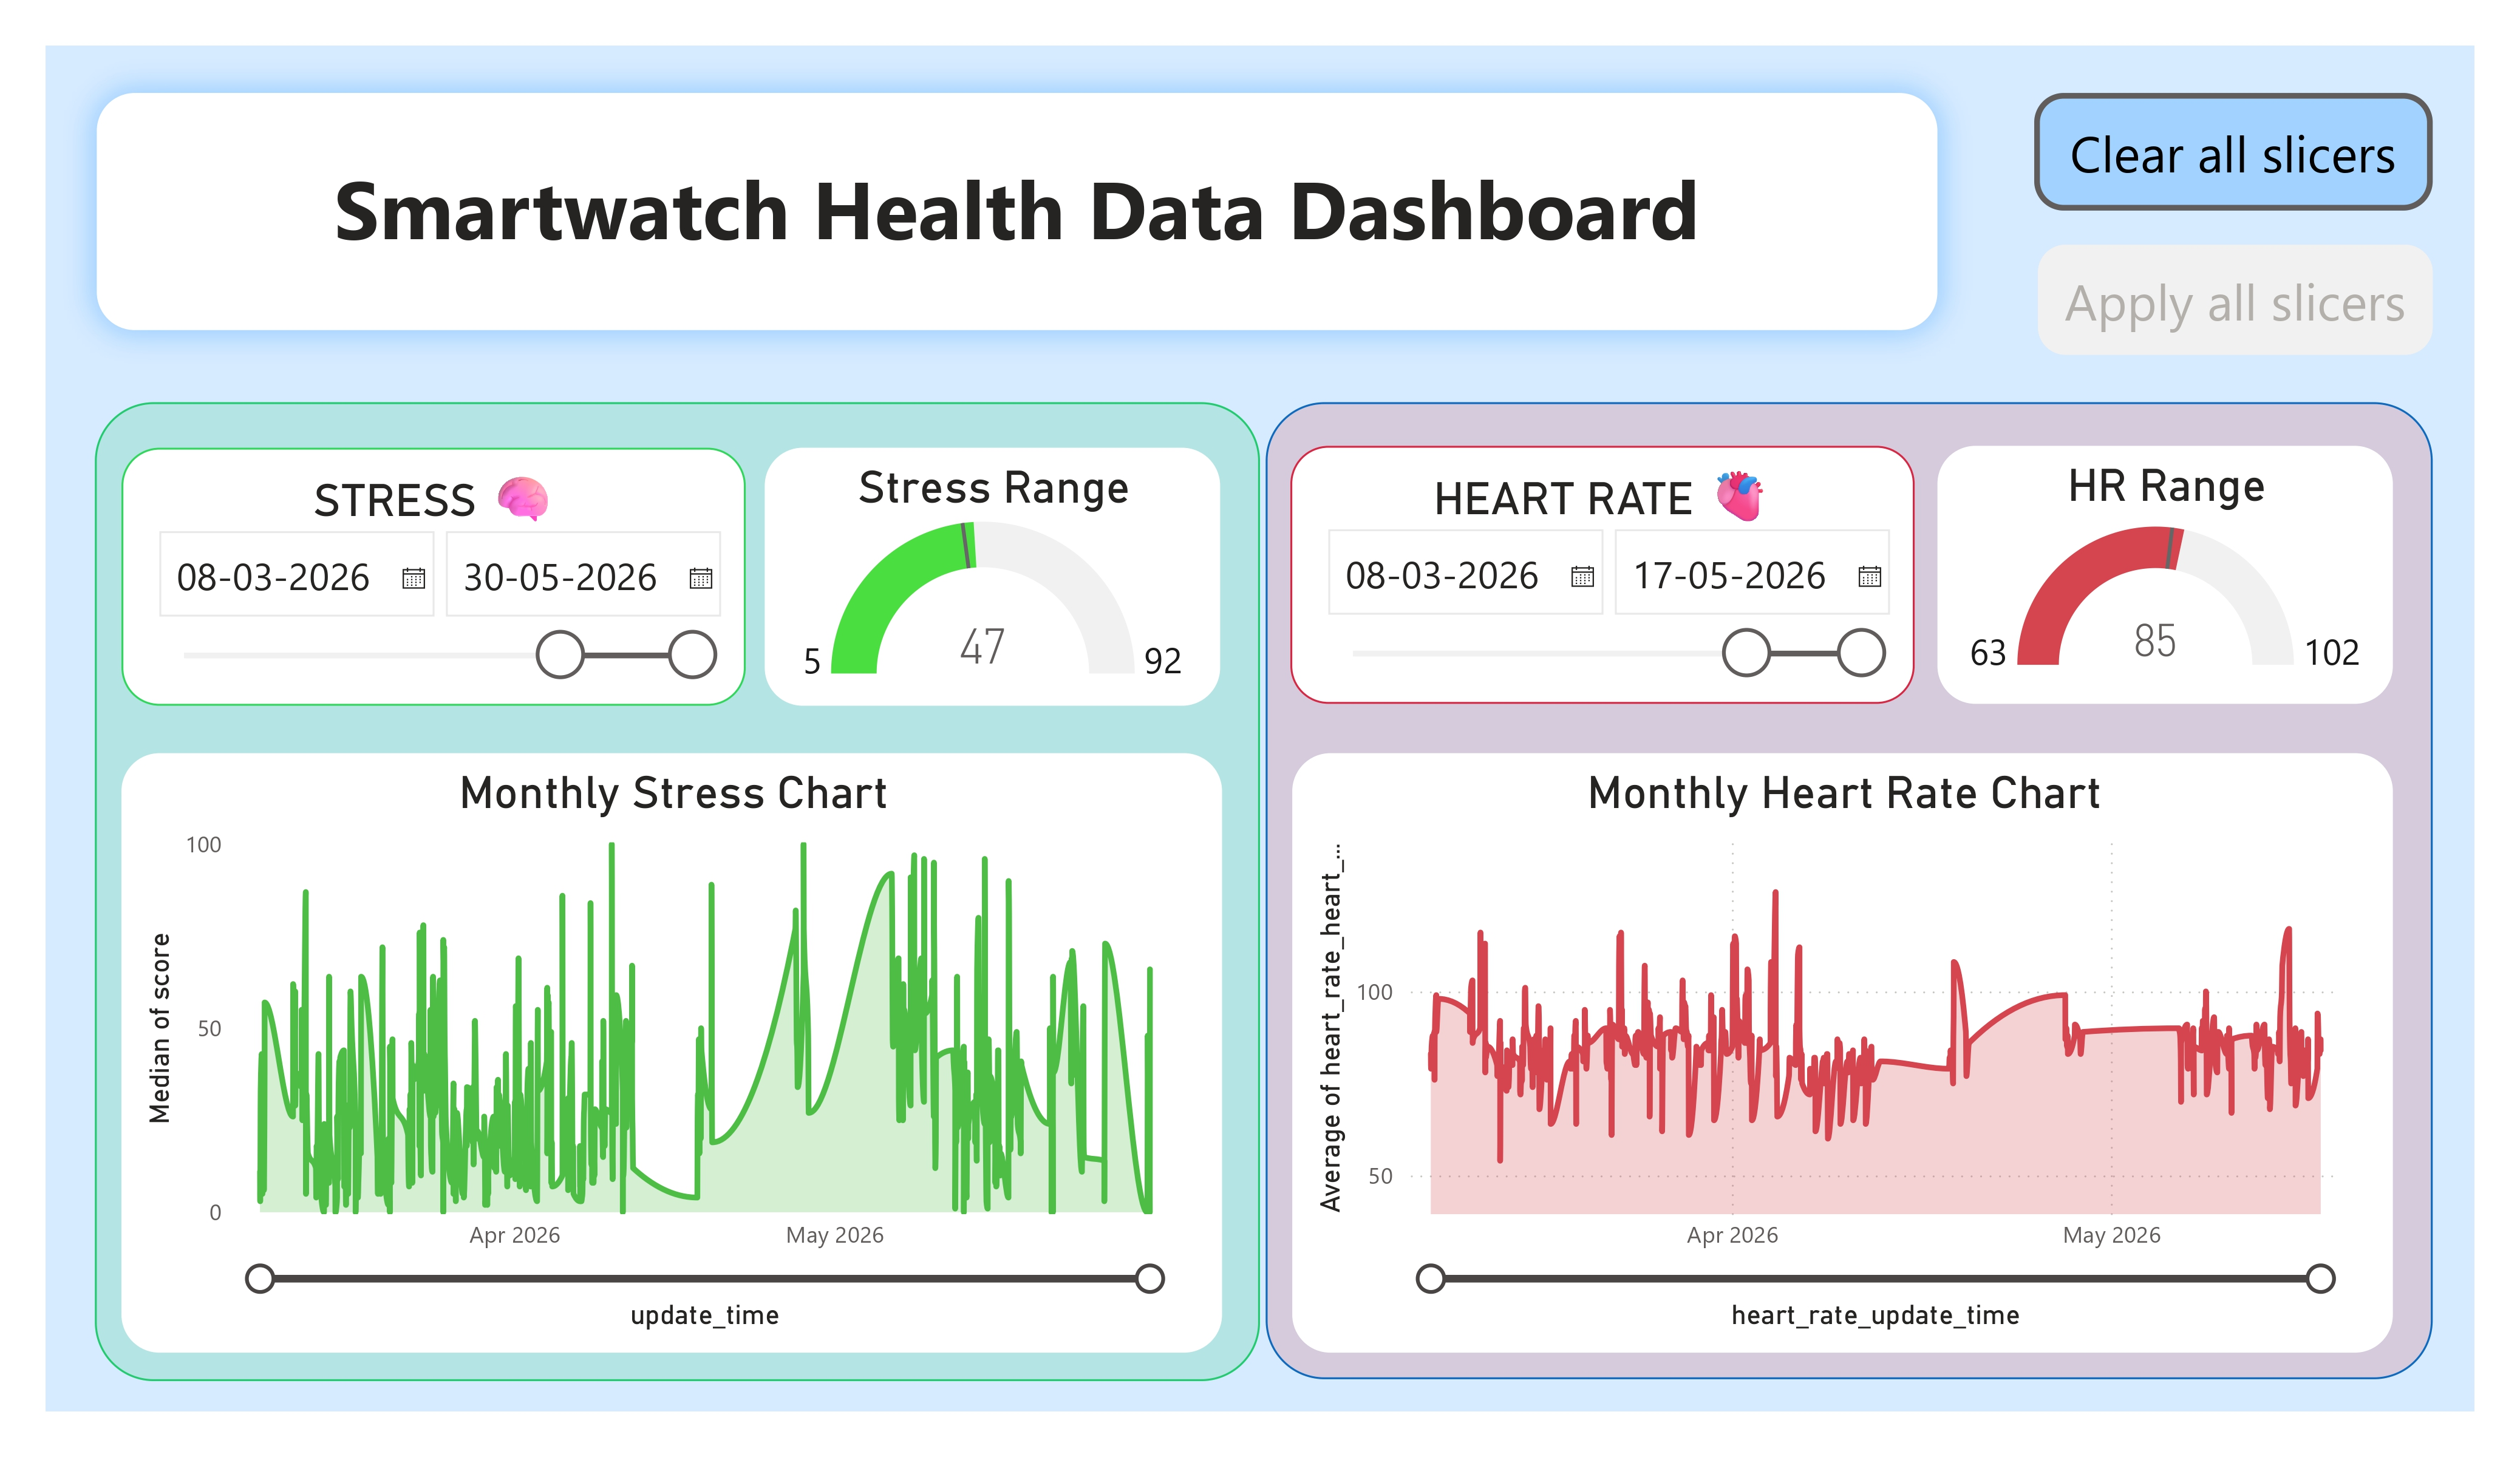

What the dashboard file says about the page in this screenshot:
{"tool":"powerbi","page":{"name":"Database - SupaBase","canvas":[1280,720],"ordinal":0},"visuals":[{"type":"shape","box":[26,188,614,516],"z":0},{"type":"shape","box":[643.3,188.3,615,515],"z":1000},{"type":"lineChart","title":"Monthly Stress Chart","fields":{"Category":["public stress.update_time"],"Y":["Median(public stress.score)"]},"box":[40,373.3,580,316],"z":2000},{"type":"lineChart","title":"Monthly Heart Rate Chart","fields":{"Category":["public tracker_heart_rate.heart_rate_update_time"],"Y":["Avg(public tracker_heart_rate.heart_rate_heart_rate)"]},"box":[656.7,373.3,580,316],"z":3000},{"type":"gauge","title":"HR Range","fields":{"Y":["Avg(public tracker_heart_rate.heart_rate_heart_rate)"],"MinValue":["Median(public tracker_heart_rate.heart_rate_min)"],"MaxValue":["Median(public tracker_heart_rate.heart_rate_max)"],"TargetValue":["Median(public tracker_heart_rate.heart_rate_heart_rate)"]},"box":[996.6,210.7,240,136.1],"z":4000},{"type":"gauge","title":"Stress Range","fields":{"Y":["Avg(public stress.score)"],"MinValue":["Median(public stress.min)"],"MaxValue":["Median(public stress.max)"],"TargetValue":["Median(public stress.score)"]},"box":[379,212.2,240,136.1],"z":5000},{"type":"slicer","title":"STRESS 🧠","fields":{"Values":["public stress.update_time"]},"box":[40,211.7,329,136.7],"z":6000},{"type":"actionButton","box":[1048.3,25,210,61.7],"z":7000},{"type":"actionButton","box":[1050,105,208.3,58.3],"z":8000},{"type":"slicer","title":"HEART RATE 🫀","fields":{"Values":["public tracker_heart_rate.heart_rate_update_time"]},"box":[656,211.3,329,136],"z":9000},{"type":"textbox","title":" ","box":[26.7,25,970,125],"z":10000}]}

Visuals, with their boxes on the page's 1280x720 design canvas (x1, y1, x2, y2). These are canvas units, not pixel positions in the 2520x1457 screenshot, which may show the page scaled, cropped or inside an application window:
shape: detection(26, 188, 640, 704)
shape: detection(643, 188, 1258, 703)
"Monthly Stress Chart" lineChart: detection(40, 373, 620, 689)
"Monthly Heart Rate Chart" lineChart: detection(657, 373, 1237, 689)
"HR Range" gauge: detection(997, 211, 1237, 347)
"Stress Range" gauge: detection(379, 212, 619, 348)
"STRESS 🧠" slicer: detection(40, 212, 369, 348)
actionButton: detection(1048, 25, 1258, 87)
actionButton: detection(1050, 105, 1258, 163)
"HEART RATE 🫀" slicer: detection(656, 211, 985, 347)
" " textbox: detection(27, 25, 997, 150)
